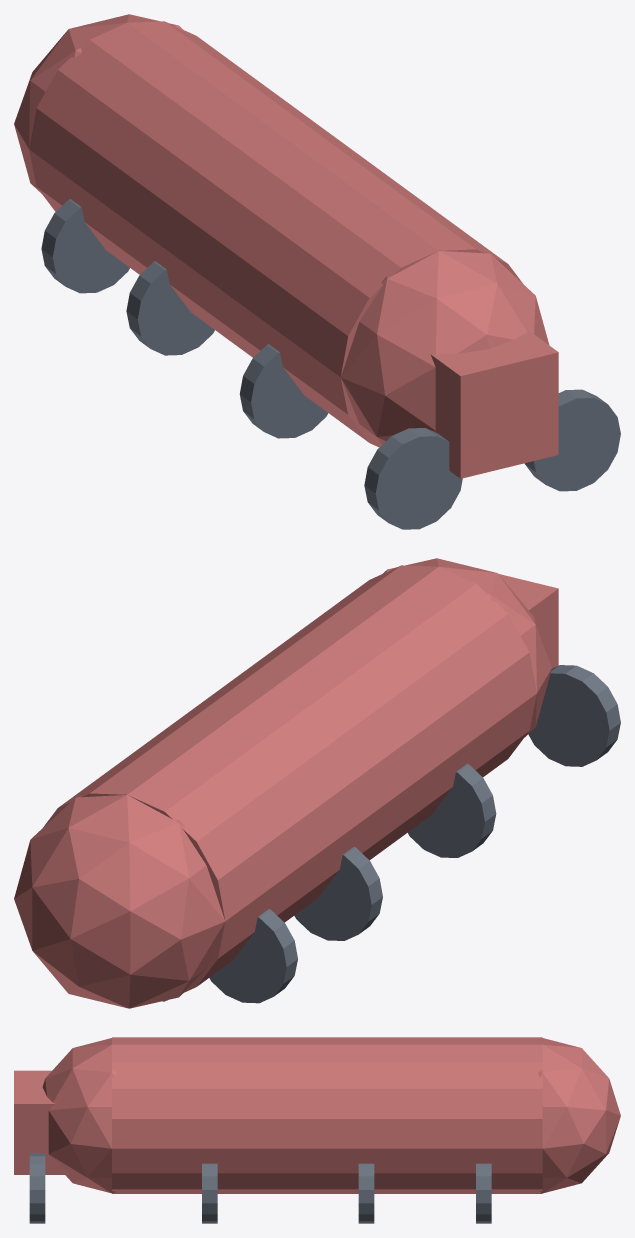
The model's file is veh_tanker_red.glb.
3 views of the same model, one above another, from view 1: azimuth 30°, elevation 25°; view 2: azimuth 150°, elevation 25°; view 3: azimuth 270°, elevation 25° (orthographic). The views are drawn at different scales.
Visible parts, largest first — view 1: world; view 2: world; view 3: world.
Boxes of the visible parts, x1,y1,x2,y2 form: world: (14, 14, 620, 529); world: (14, 558, 620, 1008); world: (14, 1037, 620, 1223).
Bounding box in the file's own units: 2.5 × 2.1 × 7.75.
